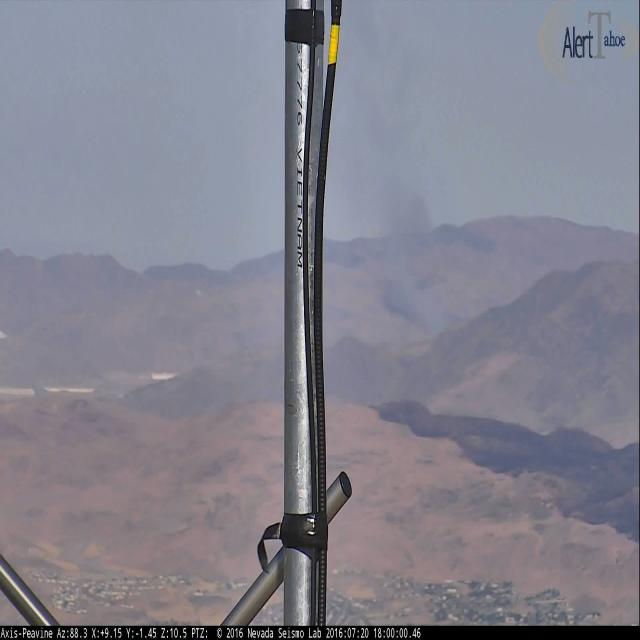smoke: (335, 1, 448, 333)
